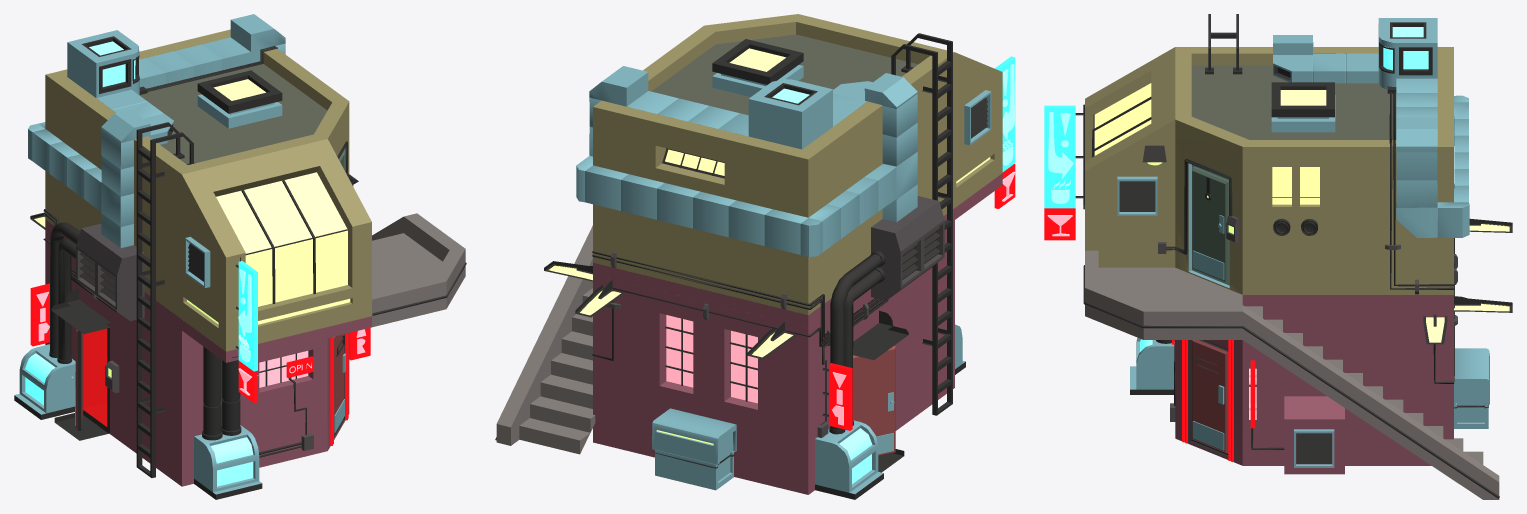
File: futuristic_low_poly_building.glb
3 views of the same model, side by side, from view 1: azimuth 30°, elevation 25°; view 2: azimuth 150°, elevation 25°; view 3: azimuth 270°, elevation 25° (orthographic). The views are drawn at different scales.
Parts seen in each view (by area): view 1: Object_4, Object_10, Object_11, Object_5, Object_8, Object_7, Object_6, Object_29, Object_56, Object_23, Object_42, Object_41 (+3 smaller); view 2: Object_4, Object_5, Object_10, Object_11, Object_7, Object_6, Object_29, Object_41, Object_39, Object_8, Object_56, Object_23 (+2 smaller); view 3: Object_4, Object_5, Object_10, Object_7, Object_11, Object_6, Object_8, Object_9, Object_39, Object_56, Object_126, Object_119 (+2 smaller).
Boxes of the visible parts, x1=… form: Object_4: x1=45, y1=29, x2=371, y2=351; Object_10: x1=14, y1=14, x2=345, y2=494; Object_11: x1=14, y1=36, x2=466, y2=499; Object_5: x1=45, y1=219, x2=371, y2=486; Object_8: x1=34, y1=79, x2=350, y2=377; Object_7: x1=372, y1=213, x2=465, y2=327; Object_6: x1=139, y1=62, x2=327, y2=163; Object_29: x1=76, y1=185, x2=353, y2=450; Object_56: x1=30, y1=283, x2=370, y2=445; Object_23: x1=25, y1=41, x2=253, y2=486; Object_42: x1=83, y1=328, x2=107, y2=426; Object_41: x1=36, y1=291, x2=366, y2=395; Object_4: x1=593, y1=14, x2=1002, y2=315; Object_5: x1=593, y1=173, x2=1002, y2=494; Object_10: x1=576, y1=65, x2=991, y2=493; Object_11: x1=495, y1=33, x2=987, y2=499; Object_7: x1=496, y1=225, x2=595, y2=454; Object_6: x1=651, y1=34, x2=917, y2=115; Object_29: x1=607, y1=196, x2=944, y2=437; Object_41: x1=666, y1=171, x2=1015, y2=425; Object_39: x1=853, y1=345, x2=895, y2=456; Object_8: x1=548, y1=48, x2=990, y2=444; Object_56: x1=829, y1=164, x2=1015, y2=430; Object_23: x1=772, y1=88, x2=872, y2=483; Object_4: x1=1085, y1=47, x2=1453, y2=294; Object_5: x1=1175, y1=295, x2=1453, y2=474; Object_10: x1=1117, y1=18, x2=1489, y2=467; Object_7: x1=1085, y1=250, x2=1499, y2=499; Object_11: x1=1075, y1=14, x2=1512, y2=498; Object_6: x1=1191, y1=65, x2=1396, y2=139; Object_8: x1=1094, y1=83, x2=1509, y2=342; Object_9: x1=1192, y1=166, x2=1229, y2=283; Object_39: x1=1192, y1=340, x2=1228, y2=453; Object_56: x1=1044, y1=208, x2=1255, y2=461; Object_126: x1=1044, y1=105, x2=1075, y2=208; Object_119: x1=1048, y1=112, x2=1073, y2=203.
Size of the model in its own units: 6.15 by 6.7 by 7.96.
